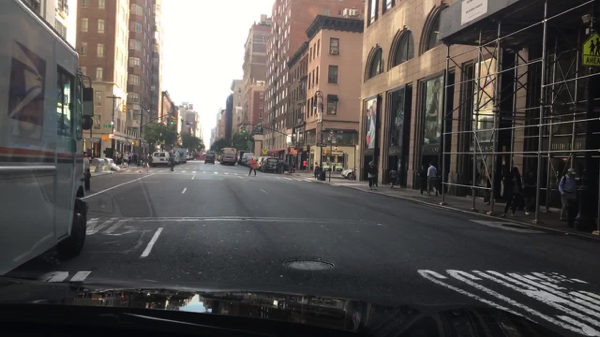bus: (1, 4, 96, 276), (219, 146, 238, 167)
car: (88, 156, 122, 173), (260, 155, 285, 176), (150, 150, 173, 169), (235, 149, 252, 166), (249, 155, 266, 170), (240, 150, 255, 166), (339, 168, 357, 181), (170, 149, 183, 166), (203, 154, 216, 166), (187, 153, 196, 161), (207, 154, 215, 160), (216, 153, 221, 162)
person: (497, 167, 524, 220), (555, 165, 580, 222), (521, 167, 539, 216), (425, 161, 442, 200), (414, 164, 431, 196), (482, 165, 494, 207), (370, 160, 381, 191), (437, 163, 446, 198), (387, 166, 400, 190), (140, 151, 153, 174), (247, 154, 259, 178), (367, 160, 374, 188), (169, 148, 176, 173), (122, 150, 131, 168), (313, 161, 319, 179), (301, 158, 308, 173), (115, 149, 121, 166), (133, 152, 140, 165), (127, 150, 133, 163), (129, 152, 135, 164), (119, 154, 125, 166), (292, 162, 297, 174)
traffic light: (130, 139, 139, 148), (290, 148, 299, 156), (101, 133, 108, 142), (121, 103, 127, 113), (172, 117, 178, 126), (169, 117, 174, 125), (239, 125, 243, 135), (242, 126, 246, 135)
traffic sign: (581, 31, 598, 56), (579, 56, 599, 67), (316, 141, 328, 149), (101, 123, 112, 129), (261, 147, 268, 156), (323, 167, 332, 173), (108, 133, 115, 140), (329, 129, 335, 137), (335, 168, 343, 174), (160, 140, 167, 146), (287, 144, 297, 148)
truck: (173, 147, 188, 166)
